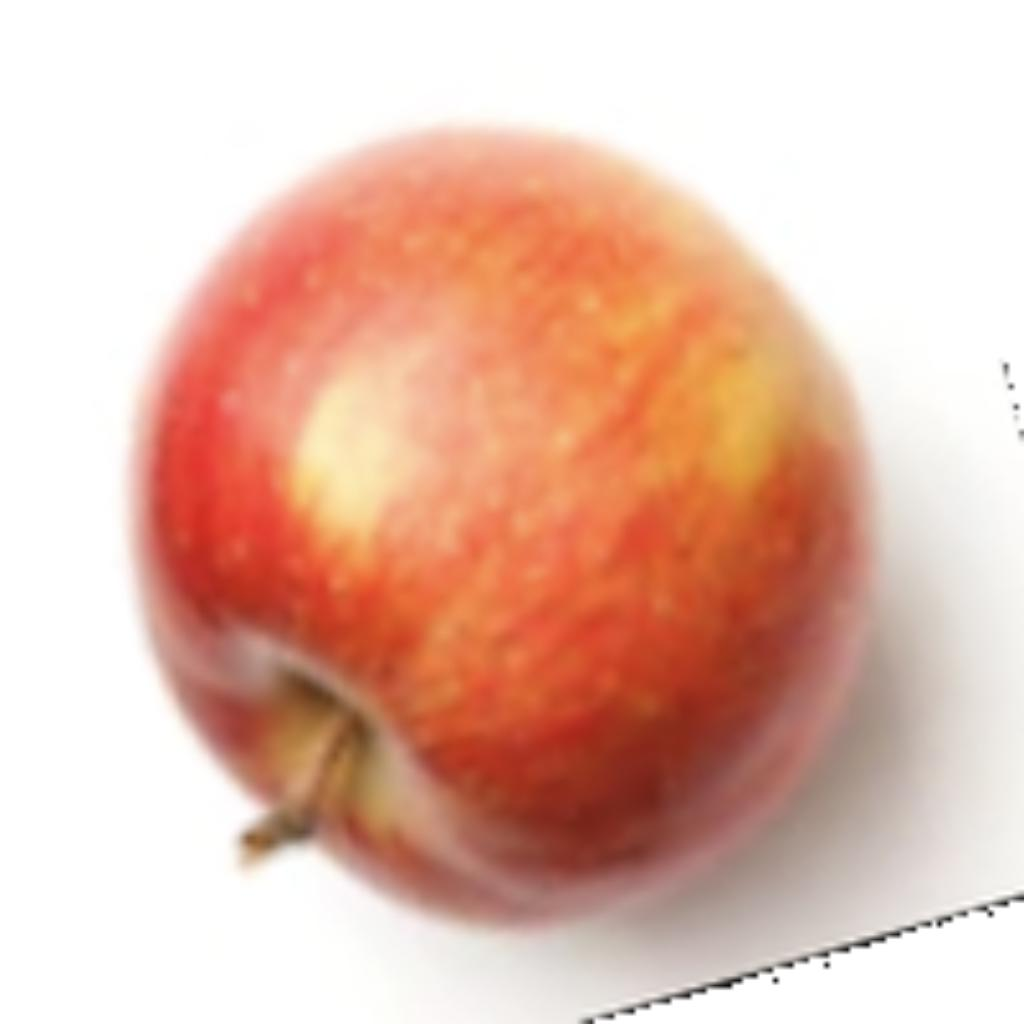apple: (113, 113, 973, 1019)
